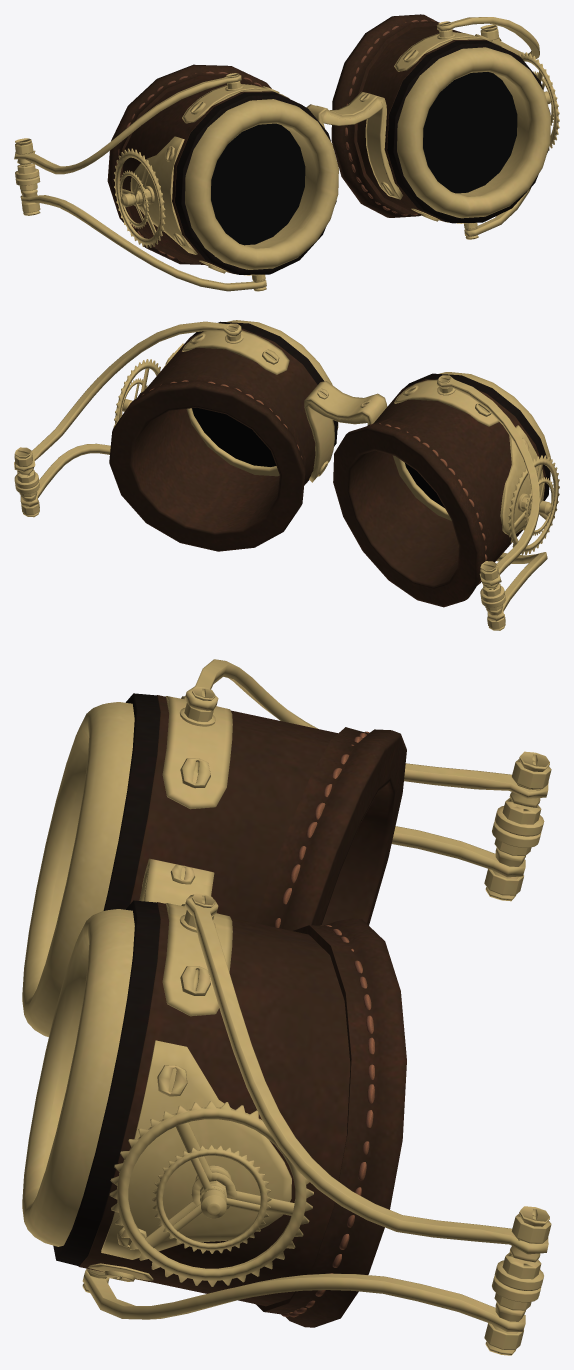
Rendered from steampunk.glb.
3 views of the same model, one above another, from view 1: azimuth 30°, elevation 25°; view 2: azimuth 150°, elevation 25°; view 3: azimuth 270°, elevation 25° (orthographic). The views are drawn at different scales.
Parts seen in each view (by area): view 1: steampunk; view 2: steampunk; view 3: steampunk.
Boxes of the visible parts, x1,y1,x2,y2 form: steampunk: (14, 14, 559, 291); steampunk: (14, 320, 559, 630); steampunk: (22, 659, 551, 1355).
Bounding box in the file's own units: 1.44 × 0.5873 × 0.6769.
Materials: 4 (3 with a texture image).
